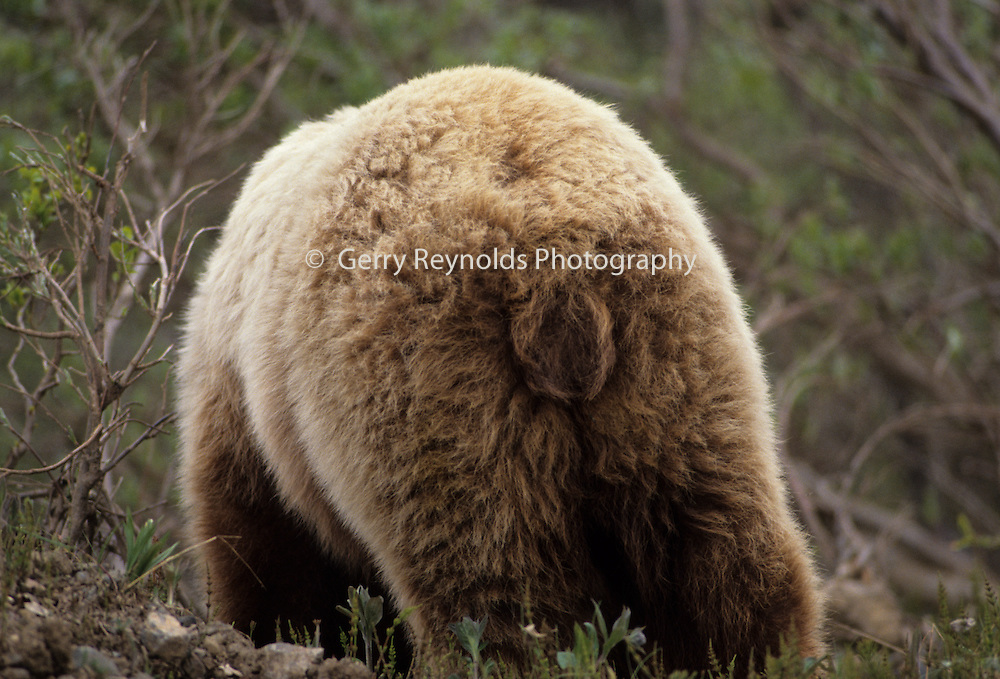bear: (170, 57, 830, 679)
